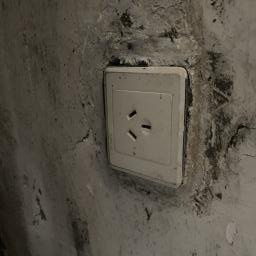outlet: (91, 56, 199, 193)
